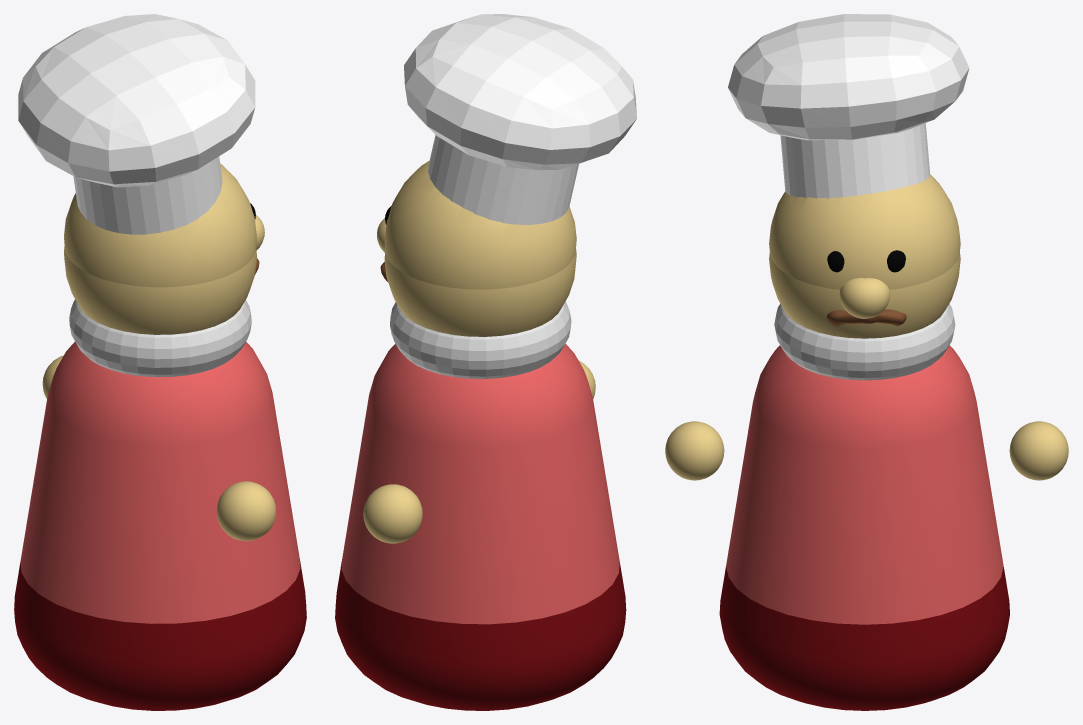
File: Pizzaiolo-1.glb
3 views of the same model, side by side, from view 1: azimuth 30°, elevation 25°; view 2: azimuth 150°, elevation 25°; view 3: azimuth 270°, elevation 25° (orthographic).
Parts seen in each view (by area): view 1: Body, Cube, Bool, Head, Sphere.001, Cylinder, Bras_G; view 2: Body, Cube, Bool, Head, Cylinder, Sphere.001, Bras_G.002; view 3: Body, Cube, Bool, Cylinder, Sphere.001, Head, Bras_G, Bras_G.002, Nez, Moustache.
Boxes of the visible parts, <box> form: Body: <box>14,342,306,710</box>; Cube: <box>18,14,255,187</box>; Bool: <box>64,163,256,287</box>; Head: <box>64,246,256,334</box>; Sphere.001: <box>69,299,251,377</box>; Cylinder: <box>73,156,222,234</box>; Bras_G: <box>216,481,276,541</box>; Body: <box>335,343,626,710</box>; Cube: <box>404,14,636,170</box>; Bool: <box>384,161,576,289</box>; Head: <box>384,249,576,336</box>; Cylinder: <box>428,135,578,224</box>; Sphere.001: <box>390,302,571,378</box>; Bras_G.002: <box>363,484,422,543</box>; Body: <box>719,345,1009,710</box>; Cube: <box>728,14,969,140</box>; Bool: <box>769,174,960,289</box>; Cylinder: <box>780,123,930,198</box>; Sphere.001: <box>774,303,955,380</box>; Head: <box>769,252,960,338</box>; Bras_G: <box>665,421,724,480</box>; Bras_G.002: <box>1009,421,1068,480</box>; Nez: <box>839,278,890,318</box>; Moustache: <box>826,309,906,326</box>.
Size of the model in its own units: 1.9 by 4.48 by 2.59.
